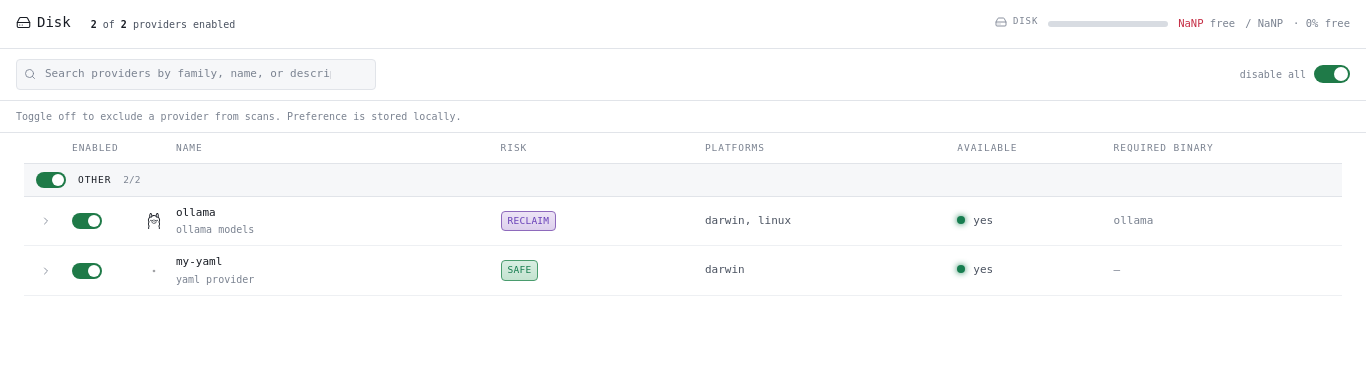
Providers page — details expansion › clicking the chevron expands that row's details panel
Click the button named "show details for ollama" at (46, 221), box [36,211,56,231]
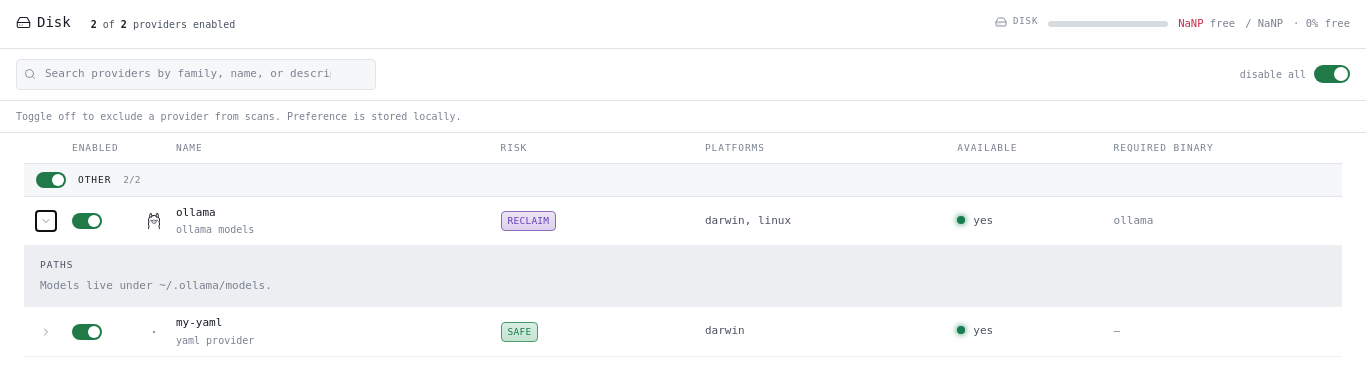
Expected: the button named "show details for ollama" is expanded, [36,211,56,231]
Expected: the element named "ollama details" is shown, [24,246,1342,306]
